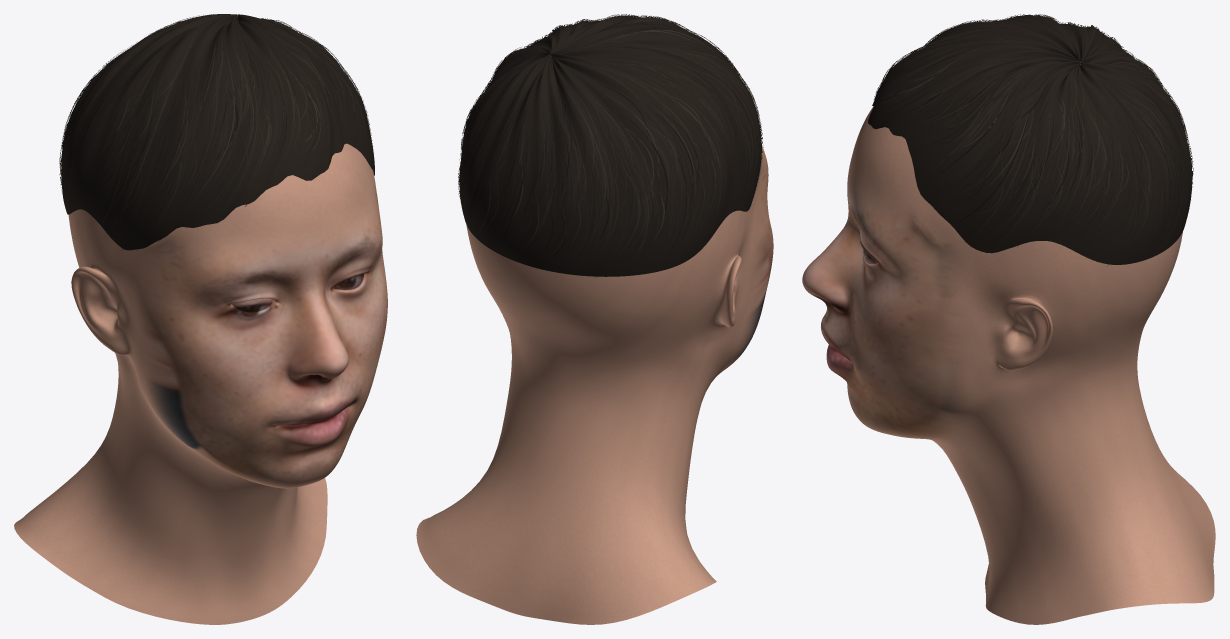
The picture shows the model from 3 angles, left to right: view 1: azimuth 30°, elevation 25°; view 2: azimuth 150°, elevation 25°; view 3: azimuth 270°, elevation 25°; orthographic projection. The views are drawn at different scales.
Parts seen in each view (by area): view 1: 马龙 · 多角度拟合头模, 发型外层 · 露额侧分与上梳短发, 碎发与发流; view 2: 马龙 · 多角度拟合头模, 发型外层 · 露额侧分与上梳短发, 碎发与发流; view 3: 马龙 · 多角度拟合头模, 发型外层 · 露额侧分与上梳短发, 碎发与发流.
Part boxes in pixels (left/top/right/bottom): 马龙 · 多角度拟合头模: left=14, top=143, right=387, bottom=624; 发型外层 · 露额侧分与上梳短发: left=61, top=14, right=374, bottom=250; 碎发与发流: left=59, top=14, right=372, bottom=249; 马龙 · 多角度拟合头模: left=416, top=146, right=773, bottom=624; 发型外层 · 露额侧分与上梳短发: left=459, top=15, right=761, bottom=276; 碎发与发流: left=458, top=14, right=763, bottom=277; 马龙 · 多角度拟合头模: left=802, top=62, right=1215, bottom=624; 发型外层 · 露额侧分与上梳短发: left=868, top=15, right=1192, bottom=264; 碎发与发流: left=872, top=14, right=1193, bottom=266.
Size of the model in its own units: 0.1719 by 0.3187 by 0.2096.
7 materials, 1 textured.
